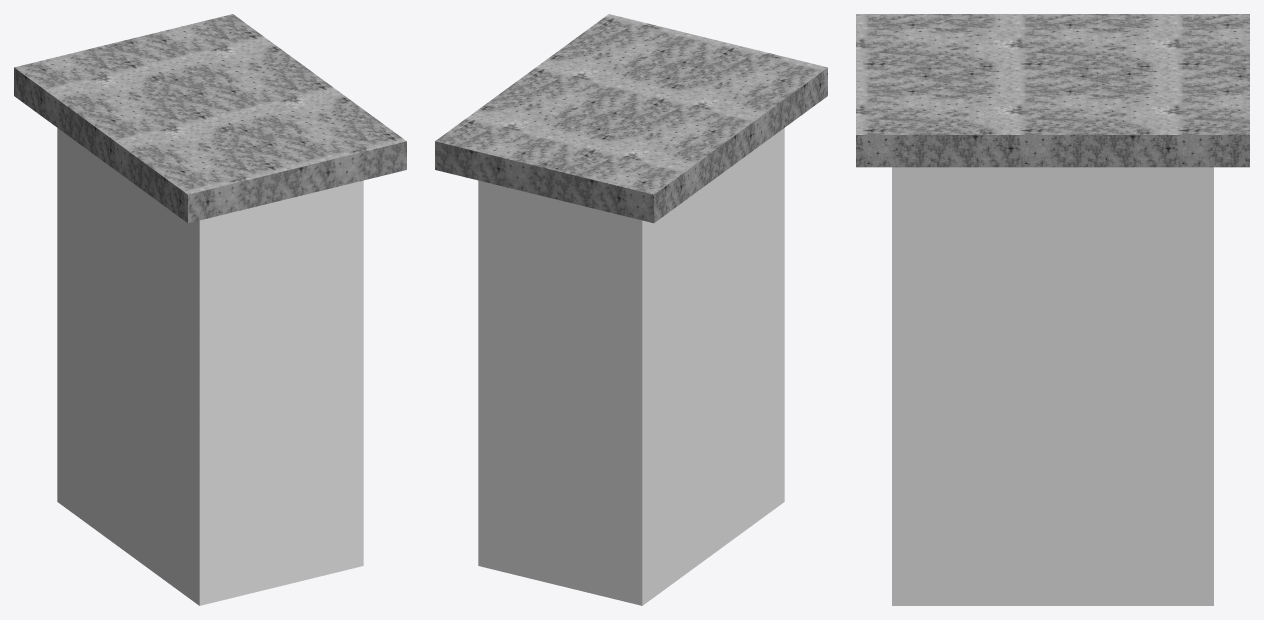
File: Sculpture1.fbx
3 views of the same model, side by side, from view 1: azimuth 30°, elevation 25°; view 2: azimuth 150°, elevation 25°; view 3: azimuth 270°, elevation 25° (orthographic). The views are drawn at different scales.
Parts seen in each view (by area): view 1: green Mesh (1), Face Sculpture_dirt Mesh (1); view 2: green Mesh (1), Face Sculpture_dirt Mesh (1); view 3: green Mesh (1), Face Sculpture_dirt Mesh (1).
Boxes of the visible parts, <box> form: green Mesh (1): <box>57,128,363,605</box>; Face Sculpture_dirt Mesh (1): <box>14,14,406,223</box>; green Mesh (1): <box>478,128,784,605</box>; Face Sculpture_dirt Mesh (1): <box>435,14,827,223</box>; green Mesh (1): <box>892,167,1213,605</box>; Face Sculpture_dirt Mesh (1): <box>856,14,1249,167</box>.
Size of the model in its own units: 2 by 3.75 by 2.75.
